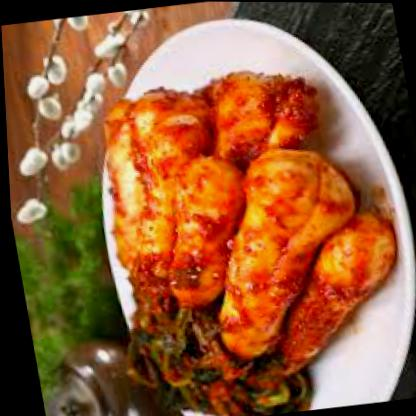chonggak Kimchi: (82, 62, 415, 415)
